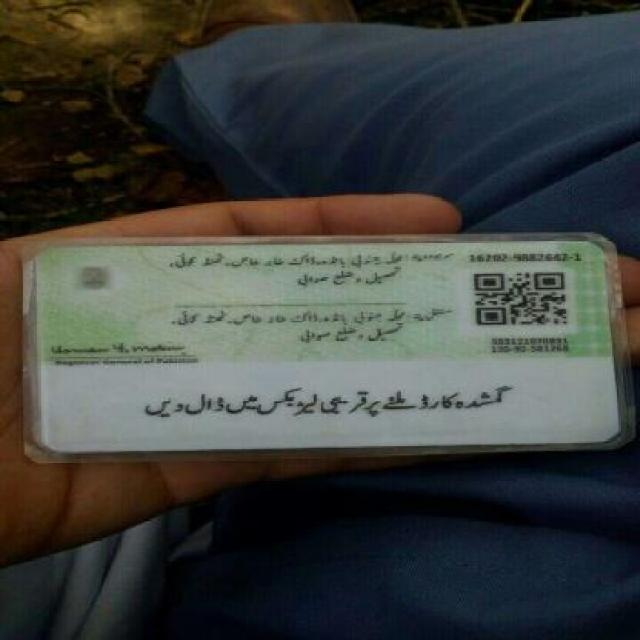Back: (23, 232, 628, 450)
